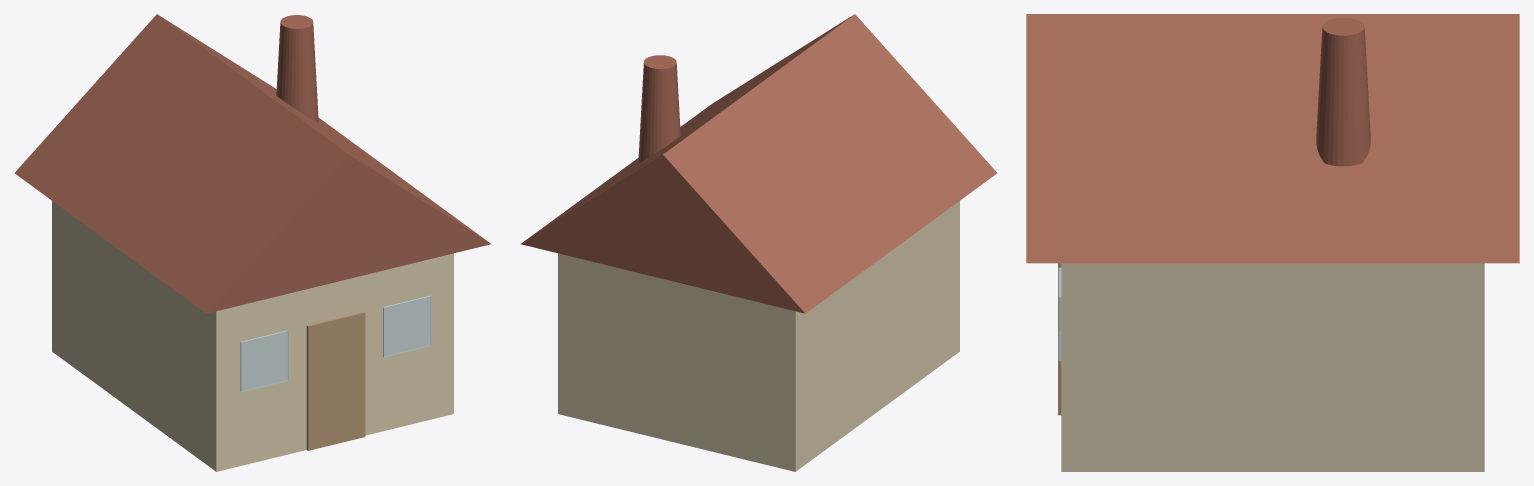
The model's file is house.glb.
3 views of the same model, side by side, from view 1: azimuth 30°, elevation 25°; view 2: azimuth 150°, elevation 25°; view 3: azimuth 270°, elevation 25° (orthographic). The views are drawn at different scales.
Parts seen in each view (by area): view 1: House_Roof, House_Body, House_Door, House_Chimney, House_Window_1, House_Window_0; view 2: House_Roof, House_Body, House_Chimney; view 3: House_Roof, House_Body, House_Chimney.
Part boxes in pixels (box(x1,y1,x2,y2)): House_Roof: box(14, 14, 491, 313); House_Body: box(52, 201, 453, 471); House_Door: box(306, 311, 365, 450); House_Chimney: box(276, 15, 318, 122); House_Window_1: box(383, 295, 431, 357); House_Window_0: box(240, 330, 288, 392); House_Roof: box(520, 14, 997, 313); House_Body: box(558, 201, 959, 471); House_Chimney: box(638, 55, 680, 162); House_Roof: box(1026, 14, 1519, 263); House_Body: box(1061, 263, 1484, 471); House_Chimney: box(1316, 17, 1370, 166).
Bounding box in the file's own units: 6 × 6.5 × 7.
